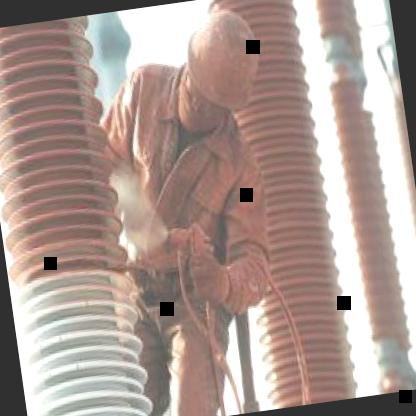helmet: (165, 5, 270, 132)
